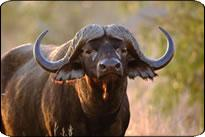Buffalo: (27, 18, 176, 137)
